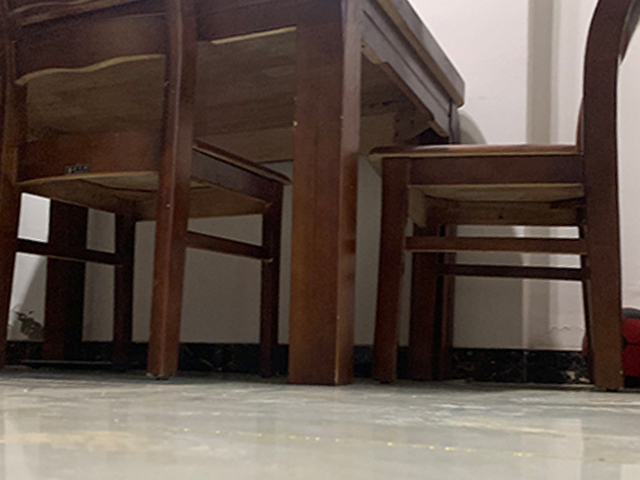stool: (1, 1, 292, 381), (366, 1, 640, 390)
table: (1, 1, 464, 387)
